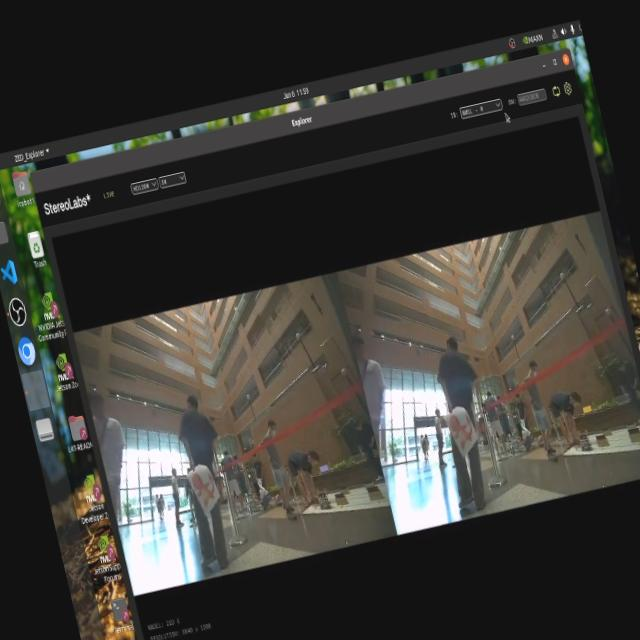red: (448, 403, 481, 446), (197, 472, 220, 508)
